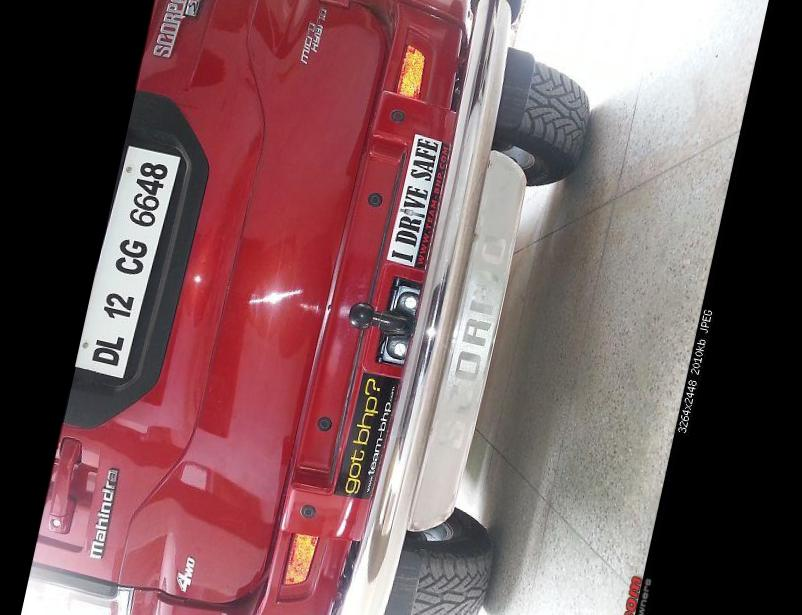plate: (76, 134, 188, 380)
